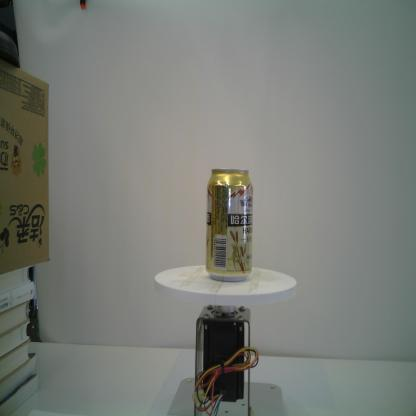Alcohol: (204, 168, 252, 282)
